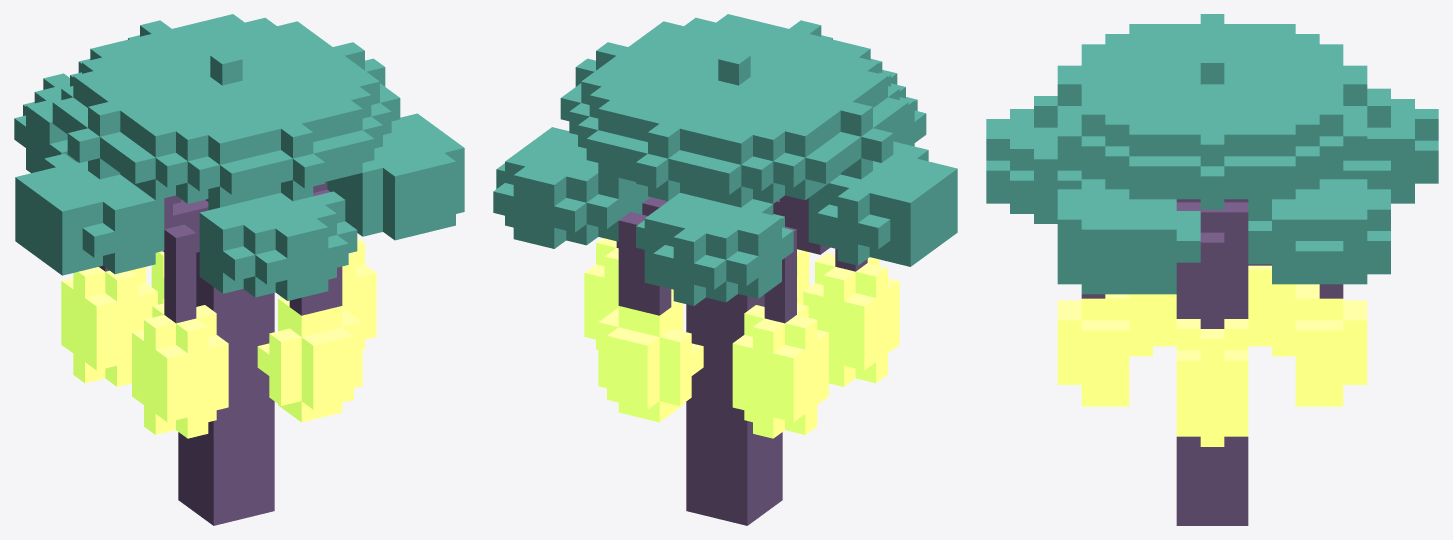
File: alien-biosphere-seed-chandelier-tree-0b0615c6__22692.glb
3 views of the same model, side by side, from view 1: azimuth 30°, elevation 25°; view 2: azimuth 150°, elevation 25°; view 3: azimuth 270°, elevation 25° (orthographic).
Visible parts, largest first — view 1: seed-chandelier-tree; view 2: seed-chandelier-tree; view 3: seed-chandelier-tree.
Boxes of the visible parts, x1,y1,x2,y2 form: seed-chandelier-tree: (14, 14, 464, 525); seed-chandelier-tree: (493, 14, 957, 525); seed-chandelier-tree: (986, 14, 1438, 525).
Size of the model in its own units: 3.6 by 4.2 by 3.8.
